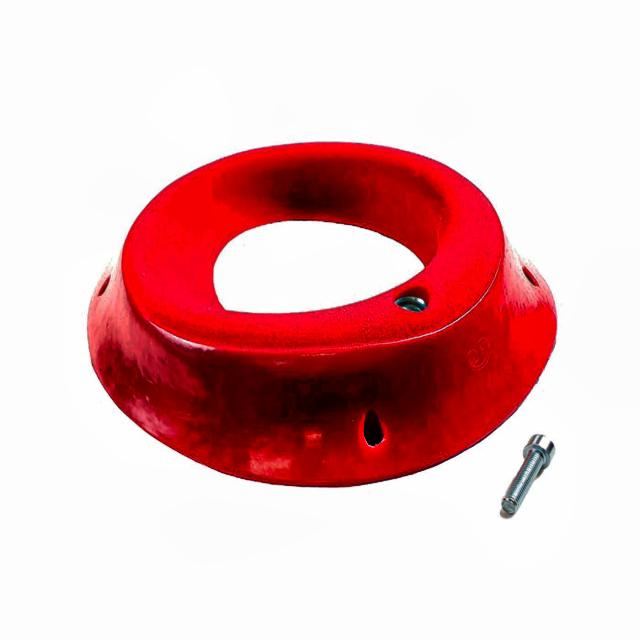Hold: (88, 146, 557, 490)
